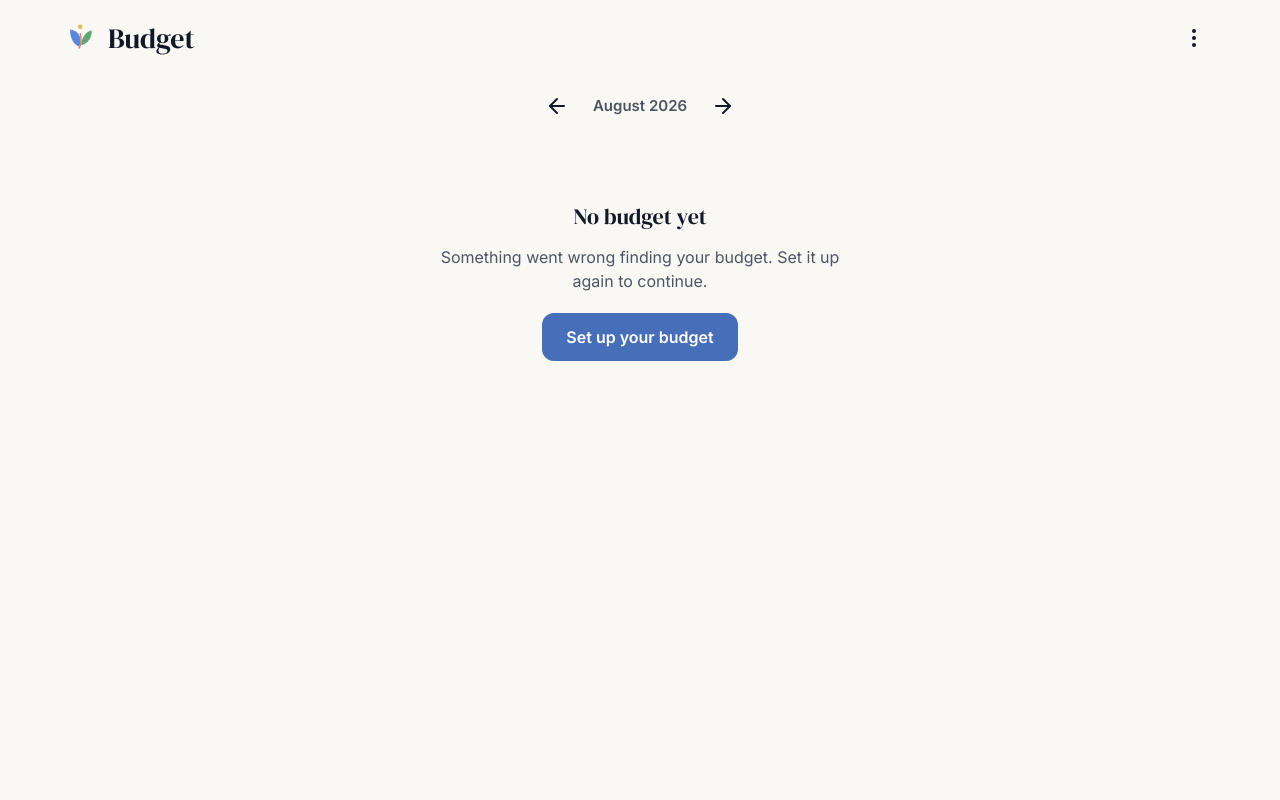
Test: qa-budget-page › QA-CC-26: a 404 budget response provisions the default budget in place
This screenshot has width=1280, height=800.
Check: the heading "No budget yet" is shown, box [573,200,707,233]
Step 1. Click the button "Set up your budget" → {"x": 640, "y": 337}, box [542,313,738,361]
(page scrolled)
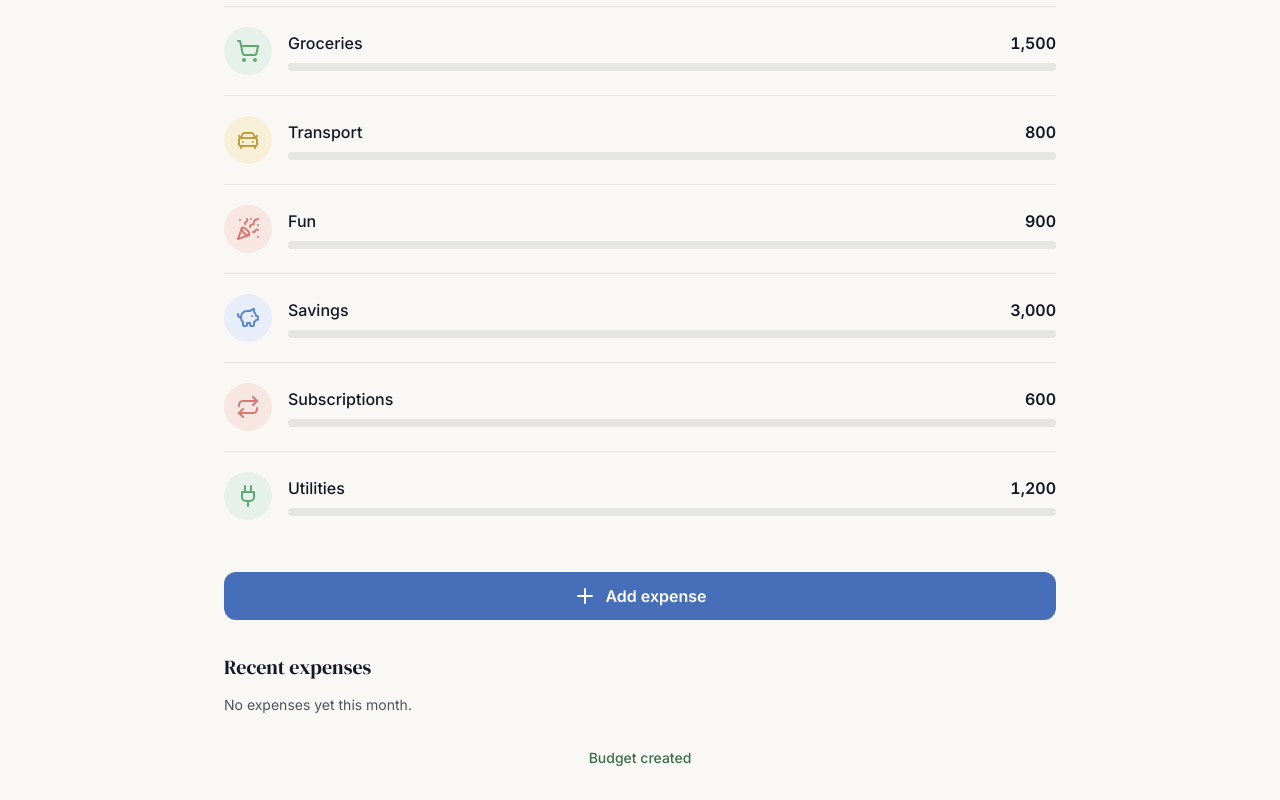
Check: the text "Budget created" is shown, box [589,749,691,766]
